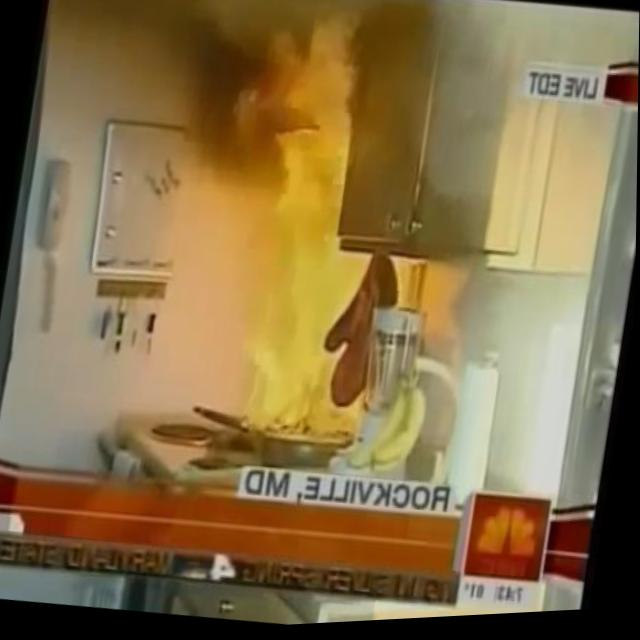fire: (192, 1, 432, 462)
